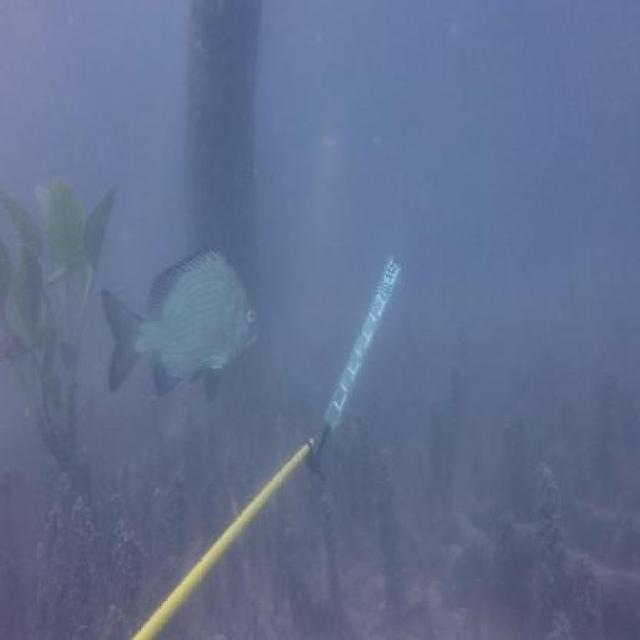acanthopagrus_palmaris: (103, 249, 266, 408)
